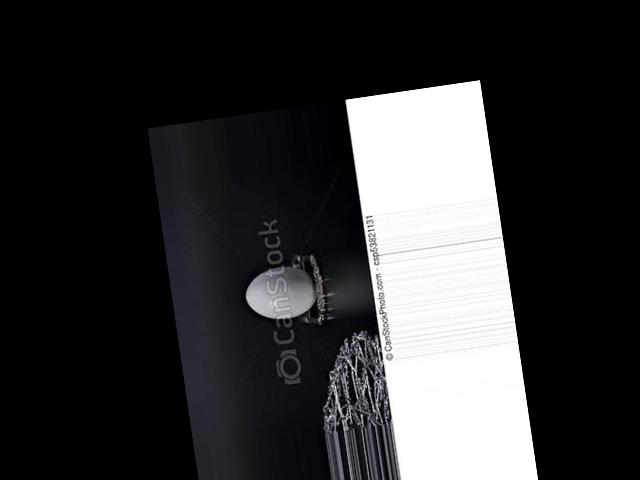egg: (242, 262, 319, 324)
